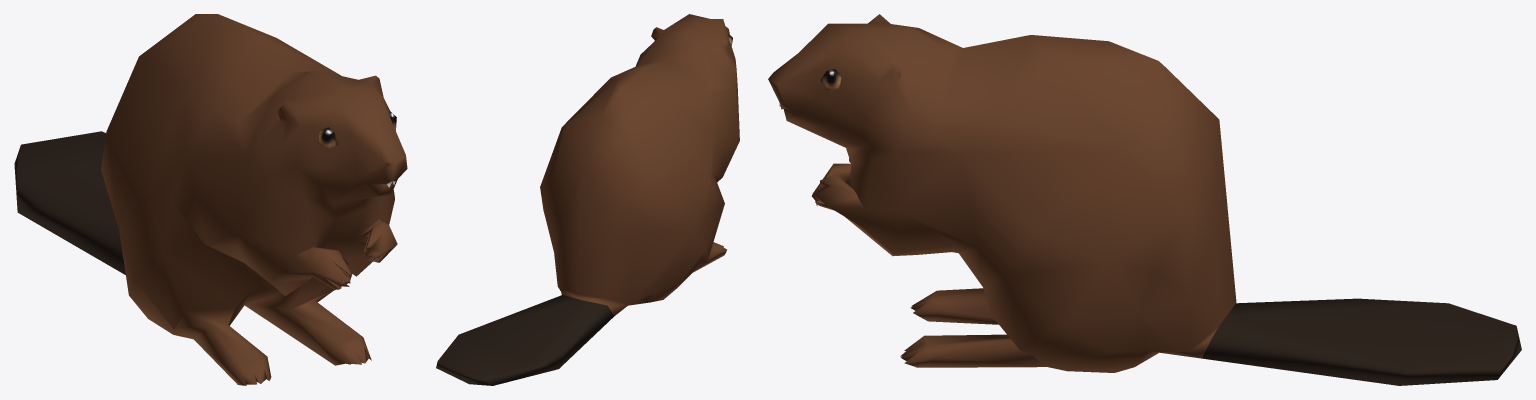
The model's file is Beaver02.glb.
3 views of the same model, side by side, from view 1: azimuth 30°, elevation 25°; view 2: azimuth 150°, elevation 25°; view 3: azimuth 270°, elevation 25° (orthographic). The views are drawn at different scales.
Parts seen in each view (by area): view 1: Beaver02; view 2: Beaver02; view 3: Beaver02.
Part boxes in pixels (x1,y1,x2,y2): Beaver02: (14, 14, 407, 385); Beaver02: (436, 14, 739, 385); Beaver02: (768, 14, 1521, 385).
Size of what is drawn, in the model's own units: 0.3508 by 0.4843 by 1.06.
1 material, 1 textured.
